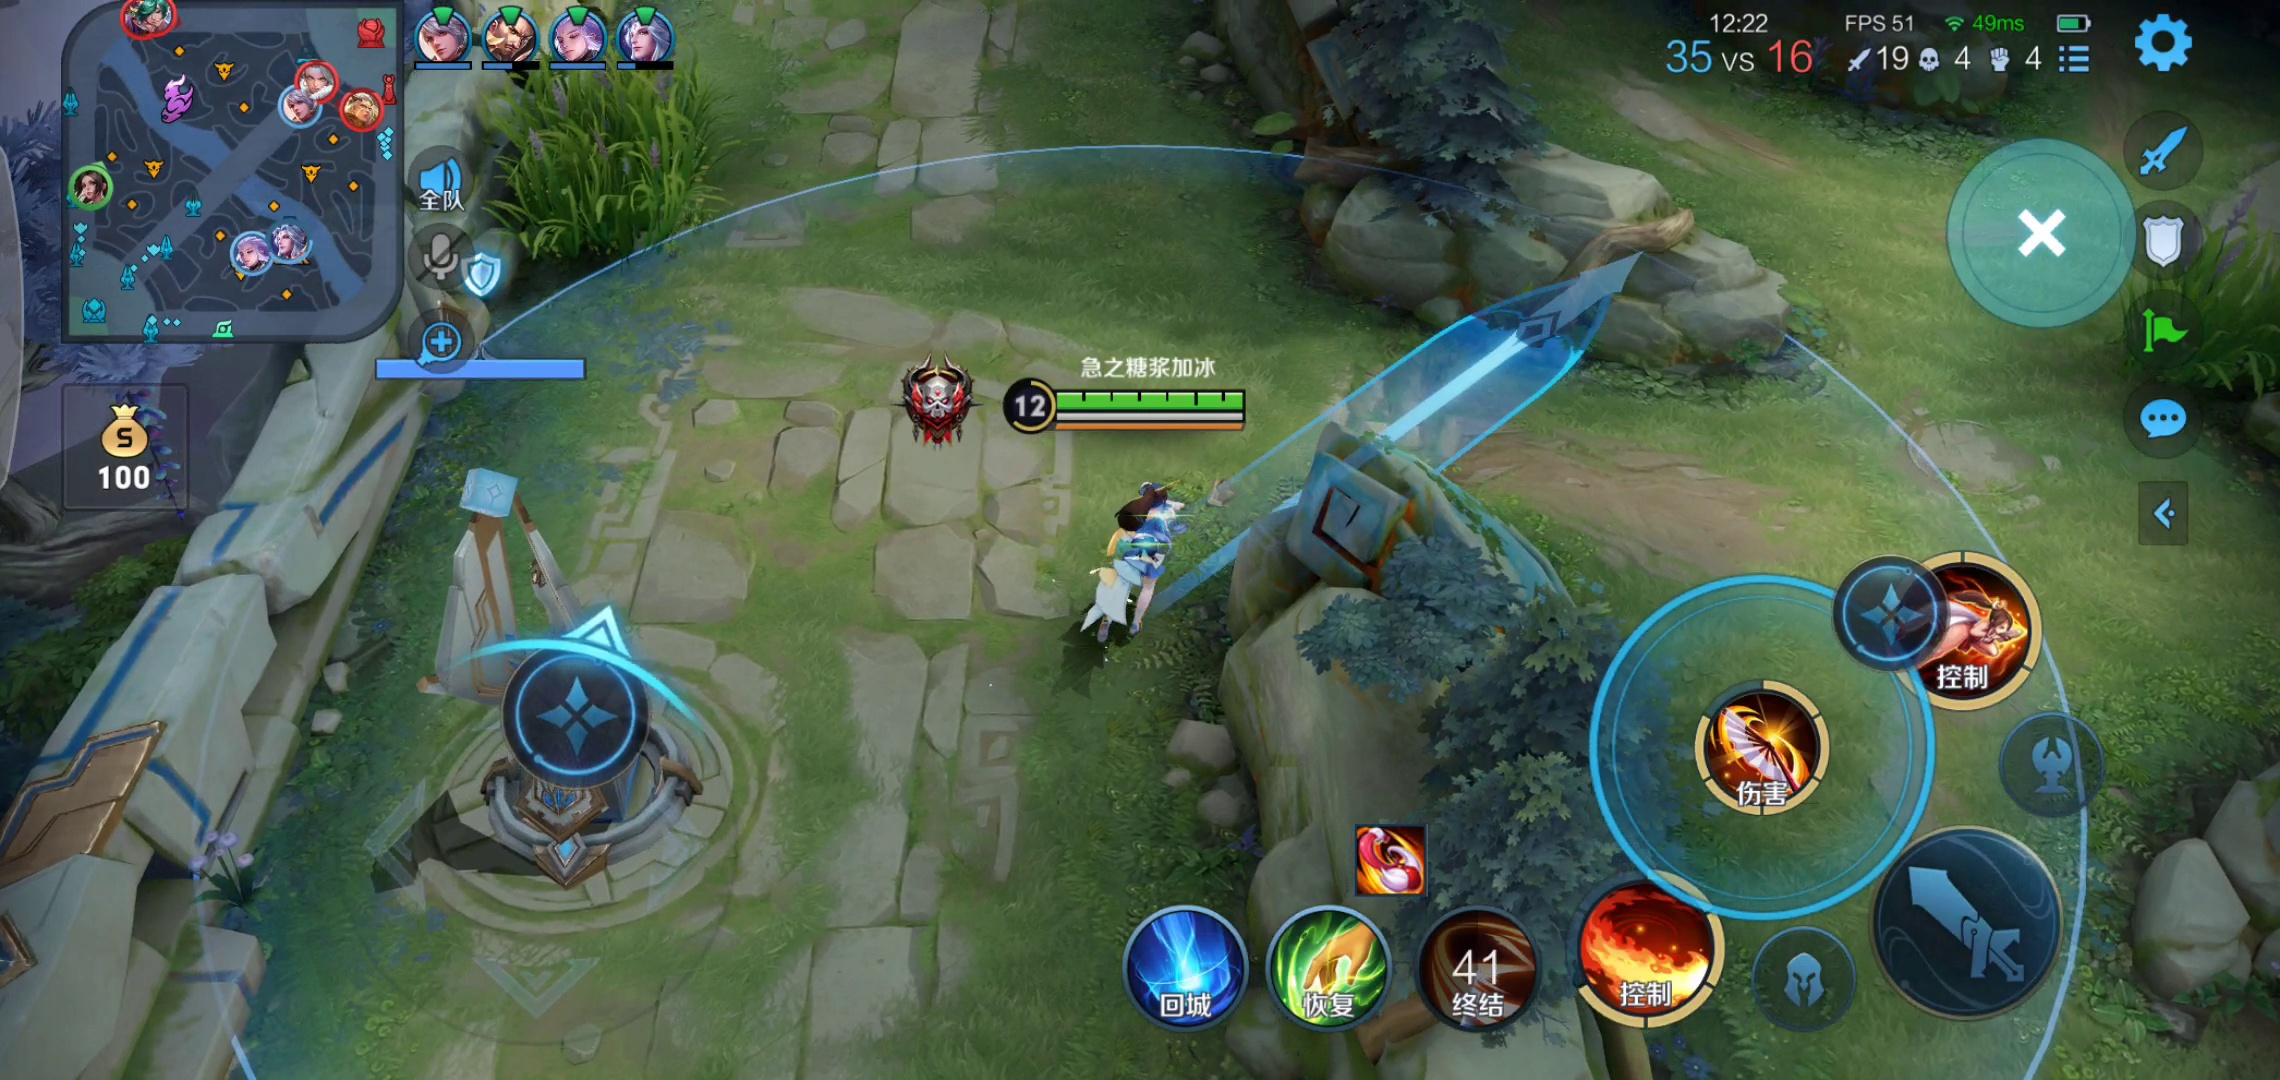grass: (489, 61, 710, 253), (2122, 240, 2280, 381)
hero: (1059, 459, 1189, 645)
tower: (366, 470, 715, 906)
